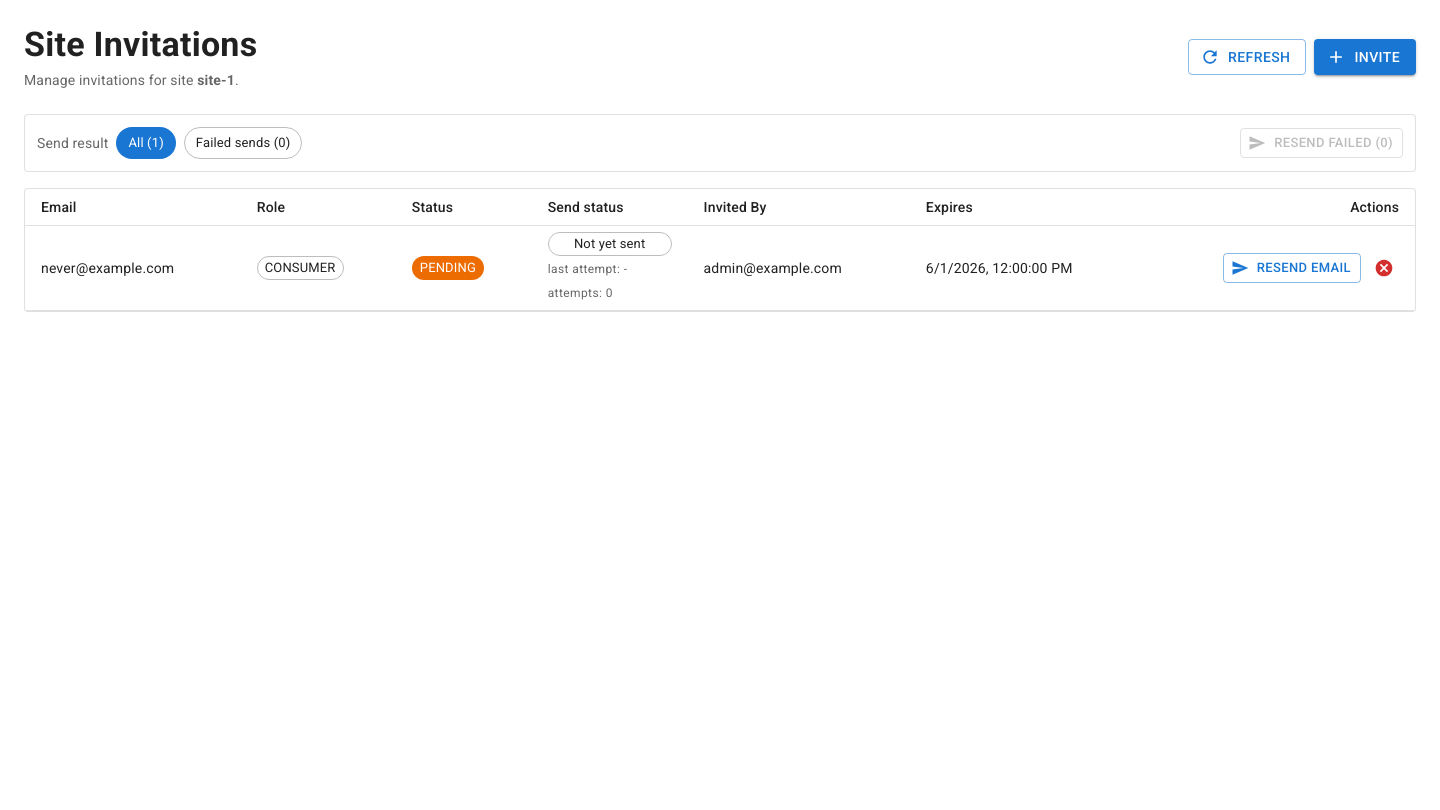
Test: SiteInvitationsPage Resend confirmation flow › surfaces backend error message inside the dialog when the service rejects
Expected: the text "never@example.com" is shown, 41,260 -> 174,276
Click the button with aria-label "Resend invitation to never@example.com": (1292, 268) 1223,252 -> 1361,283
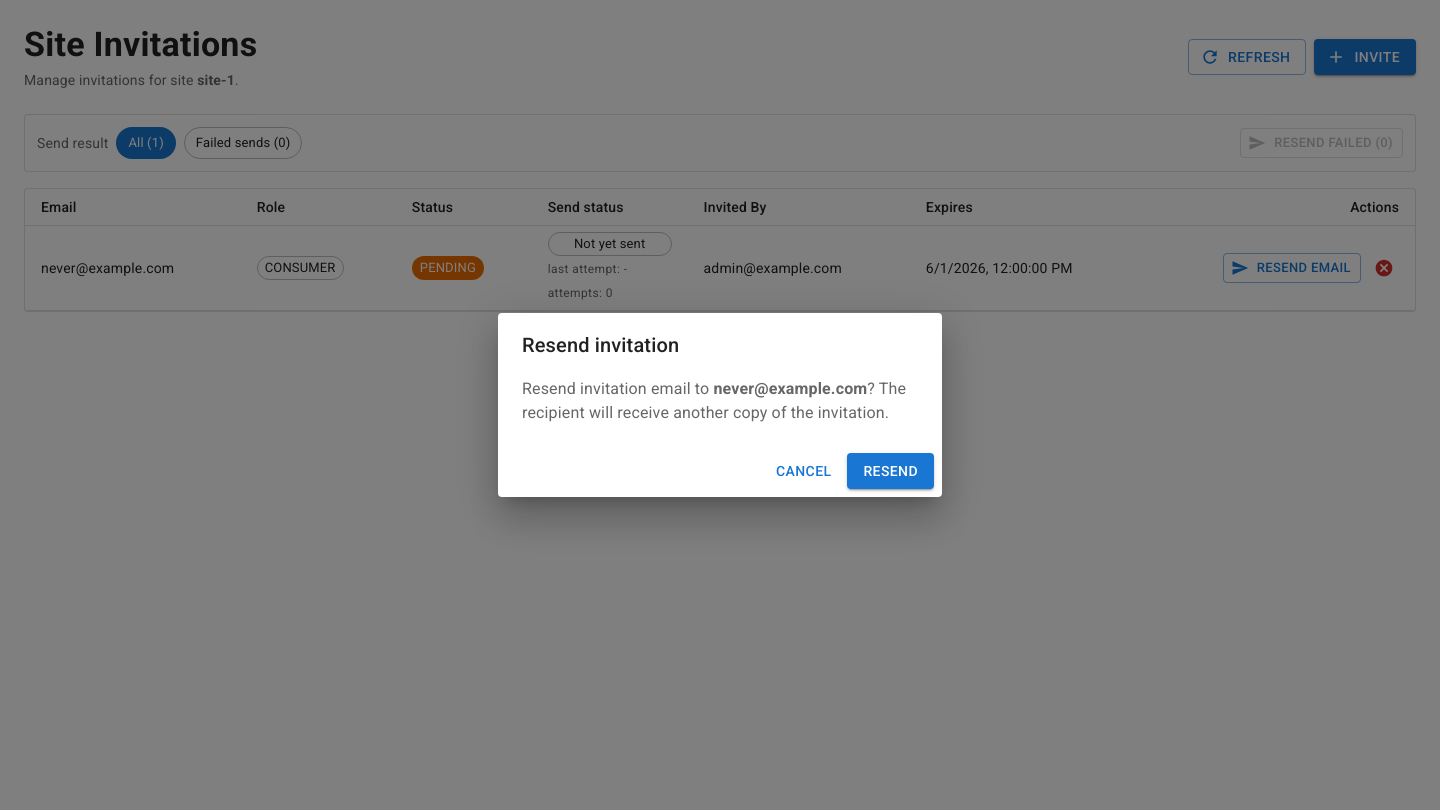
Click the button "Resend": (891, 471) 847,453 -> 934,489
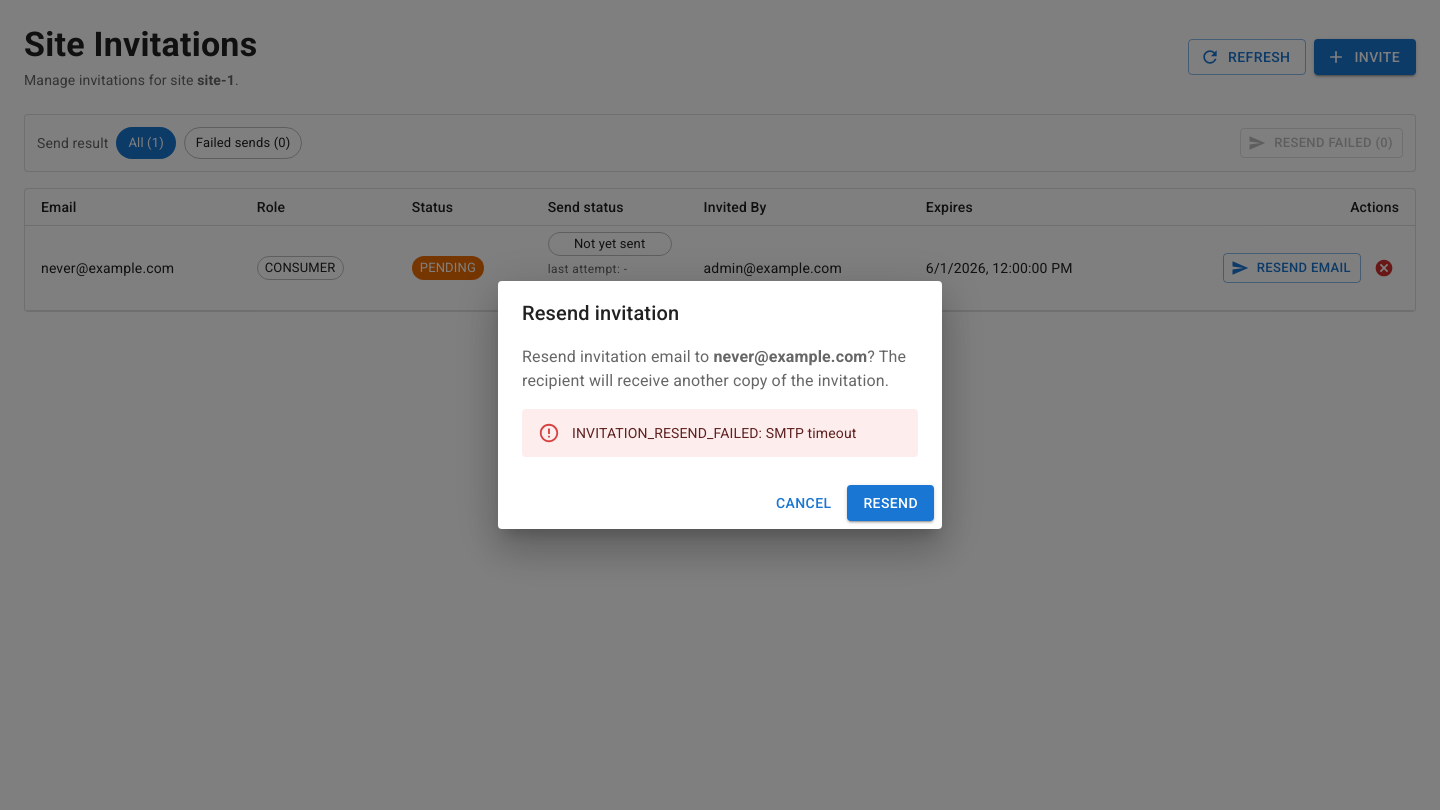
Expected: the heading "Site Invitations" is shown, 24,24 -> 257,66
Result: the message with test id "resend-invitation-error" reads "INVITATION_RESEND_FAILED: SMTP timeout" at 572,425 -> 857,441
